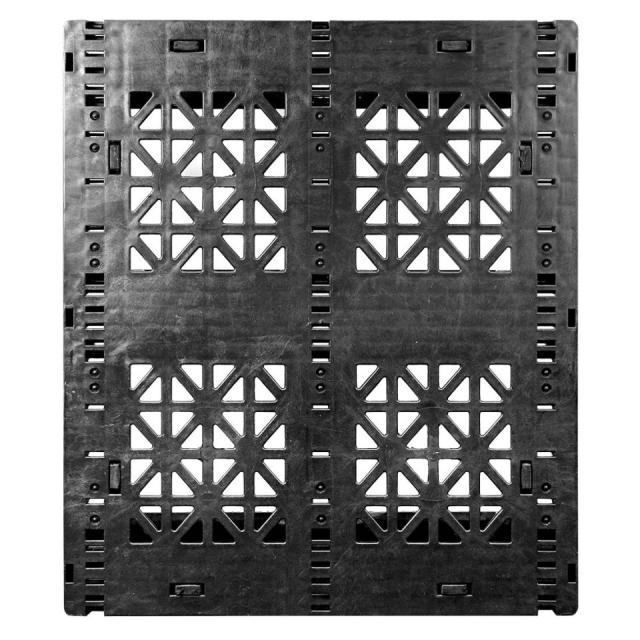non-igps: (57, 12, 586, 622)
